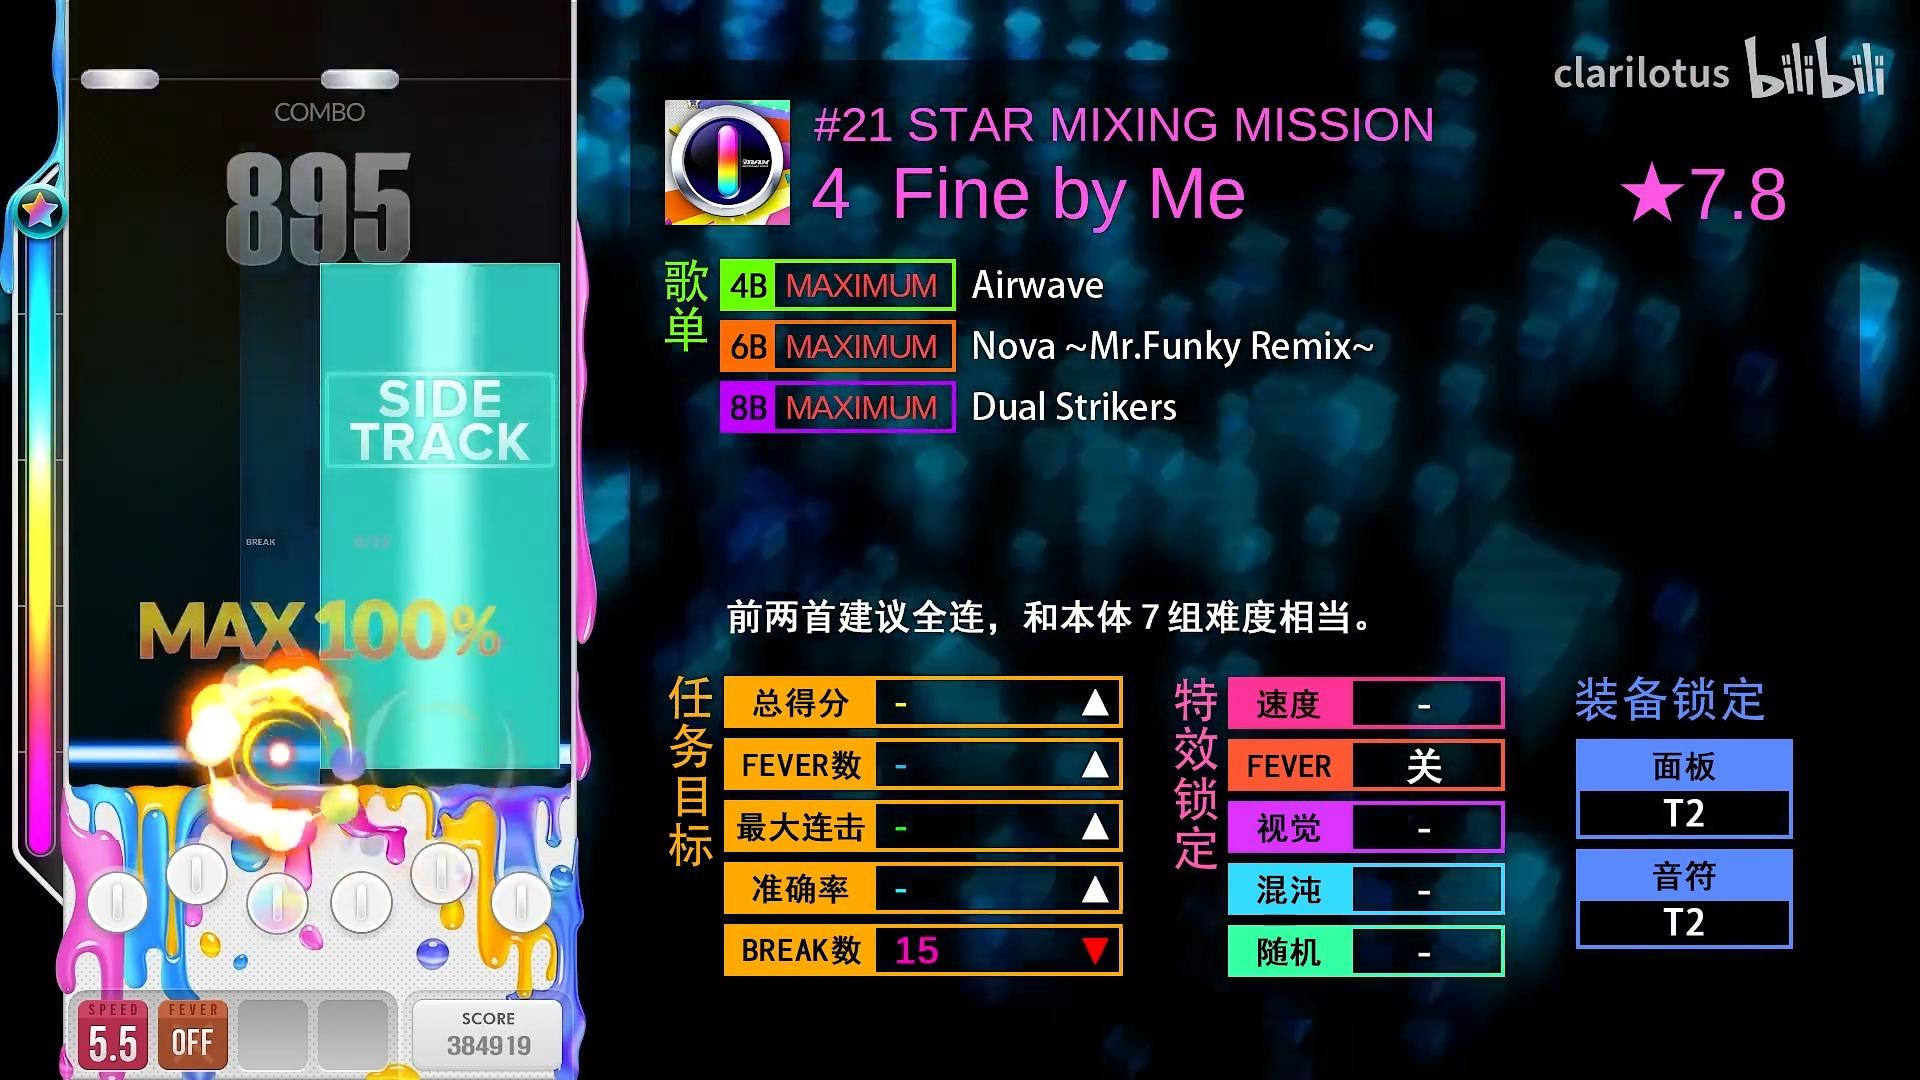note: (320, 69, 398, 91), (80, 69, 160, 90)
side-end: (320, 262, 560, 280)
